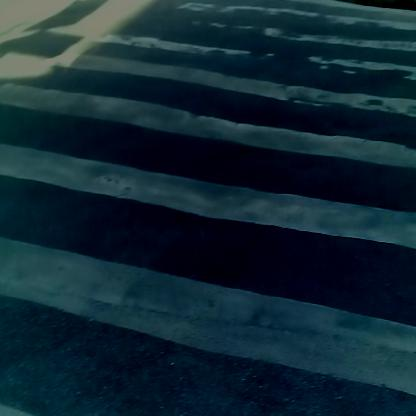crosswalk: (19, 13, 415, 398)
